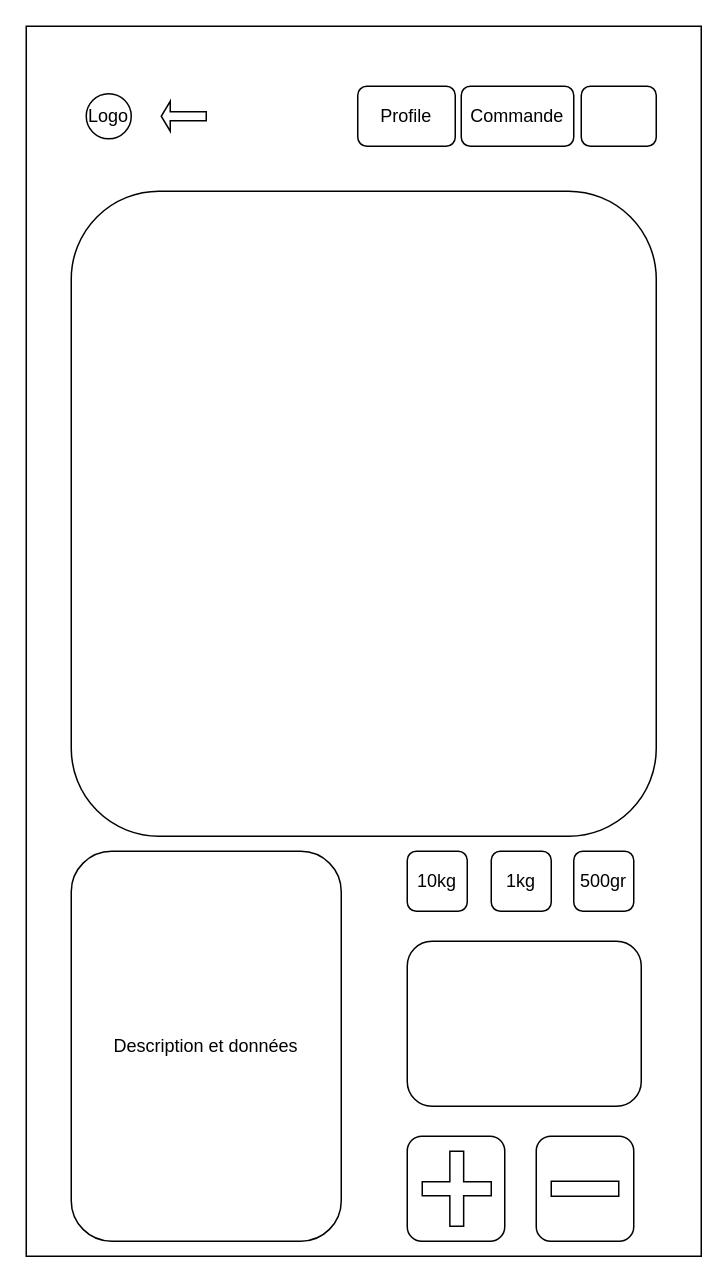
Some shapes in this 728 by 1283 pixel diagram are drawn without their labels. Each missing label, with the centre of its shape:
"Buy" goes at (523,1023).
"Panier" goes at (618,115).
"Produit photos" goes at (363,513).
